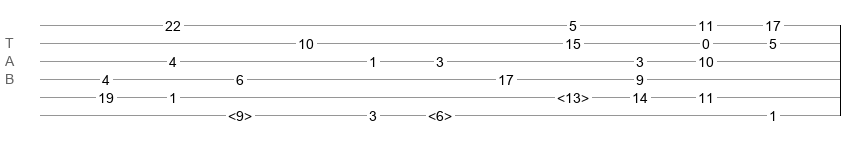0: (702, 36, 710, 46)
1: (169, 90, 177, 100), (369, 54, 377, 64), (769, 108, 777, 118)
10: (298, 36, 314, 46), (698, 54, 714, 64)
11: (698, 90, 714, 100), (698, 18, 714, 28)
14: (632, 90, 648, 100)
15: (565, 36, 581, 46)
17: (498, 72, 514, 82), (765, 18, 781, 28)
19: (98, 90, 114, 100)
22: (165, 18, 181, 28)
3: (369, 108, 377, 118), (436, 54, 444, 64), (636, 54, 644, 64)
4: (102, 72, 110, 82), (169, 54, 177, 64)
5: (569, 18, 577, 28), (769, 36, 777, 46)
6: (236, 72, 244, 82)
9: (636, 72, 644, 82)
harmonic: (557, 90, 589, 100), (228, 108, 252, 118), (428, 108, 452, 118)
